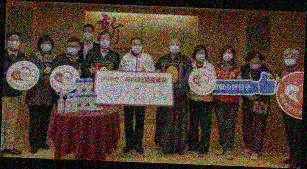with_mask: (283, 54, 298, 68), (7, 37, 20, 50), (131, 41, 143, 55), (68, 43, 80, 56), (99, 36, 111, 49), (169, 41, 181, 54), (222, 50, 234, 63), (83, 29, 94, 42), (249, 60, 262, 71), (41, 41, 52, 53), (195, 51, 206, 62)
